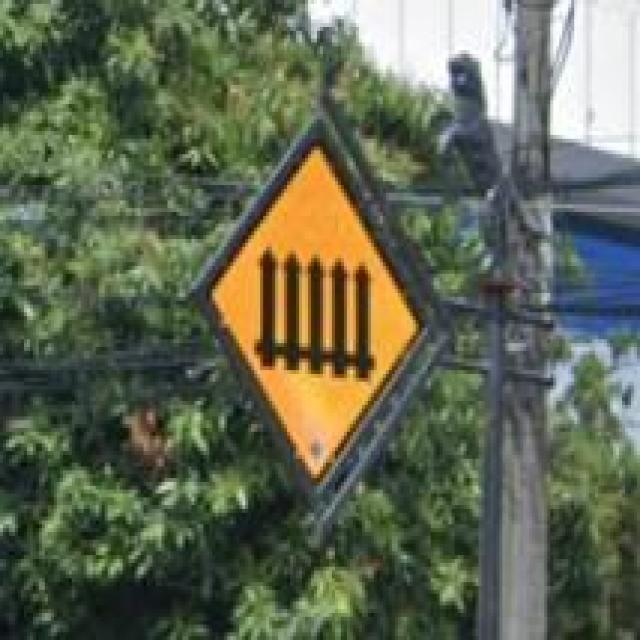traffic sign: (230, 143, 418, 470)
